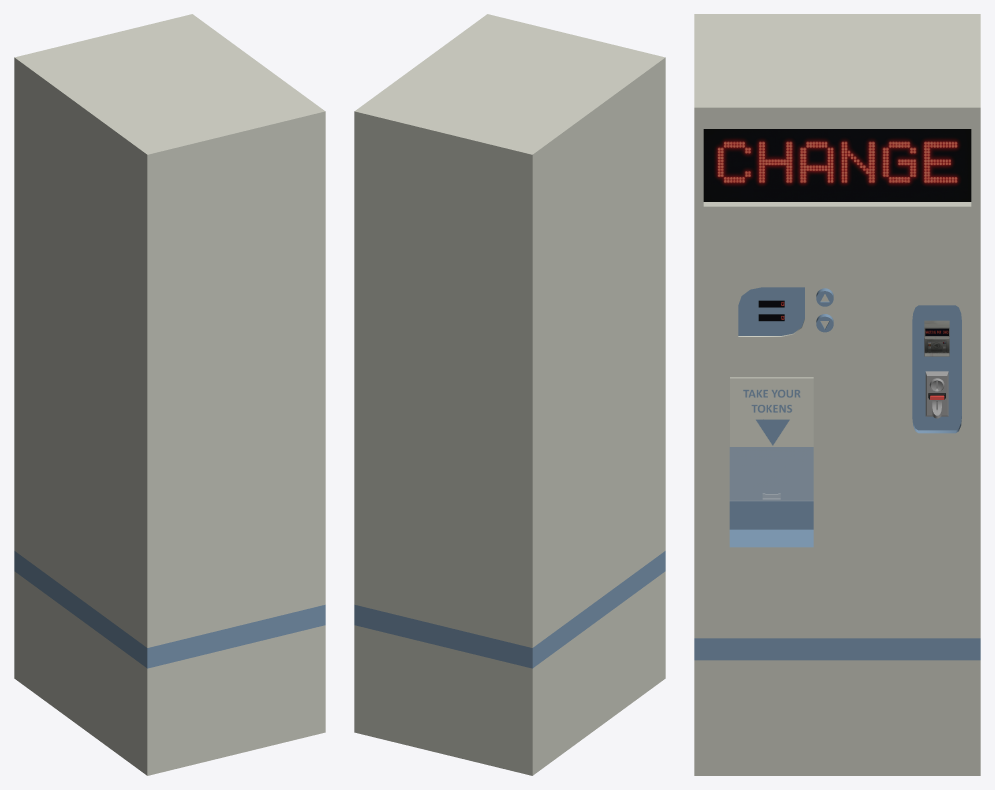
Rendered from TokenMachine.fbx.
3 renders of one model, left to right at view 1: azimuth 30°, elevation 25°; view 2: azimuth 150°, elevation 25°; view 3: azimuth 270°, elevation 25°, orthographic. The views are drawn at different scales.
Parts seen in each view (by area): view 1: Machine; view 2: Machine; view 3: Machine.
Part boxes in pixels (left/top/right/bottom): Machine: left=14, top=14, right=325, bottom=775; Machine: left=354, top=14, right=665, bottom=775; Machine: left=694, top=14, right=980, bottom=775.
Bounding box in the file's own units: 0.5371 × 1.7 × 0.66.
